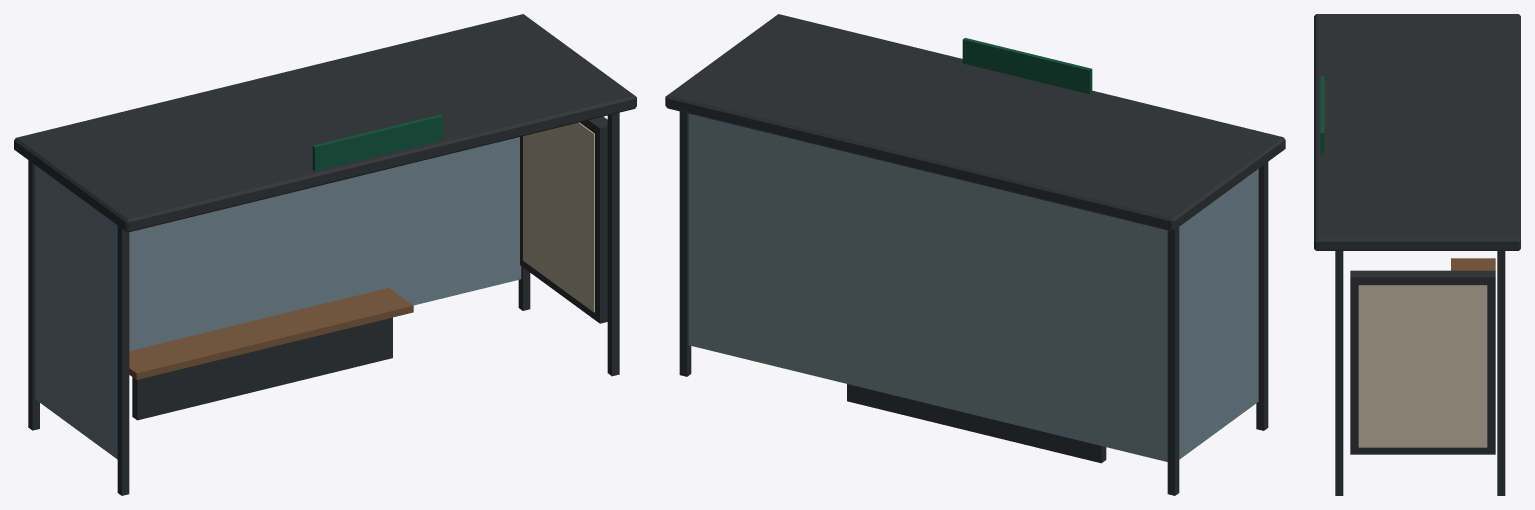
The model's file is abribus.glb.
The picture shows the model from 3 angles, left to right: view 1: azimuth 30°, elevation 25°; view 2: azimuth 150°, elevation 25°; view 3: azimuth 270°, elevation 25°; orthographic projection. The views are drawn at different scales.
Parts seen in each view (by area): view 1: abribus; view 2: abribus; view 3: abribus.
Boxes of the visible parts, x1,y1,x2,y2 form: abribus: (14, 14, 636, 495); abribus: (665, 14, 1285, 495); abribus: (1314, 14, 1520, 495).
Bounding box in the file's own units: 4.8 × 2.78 × 1.85.
